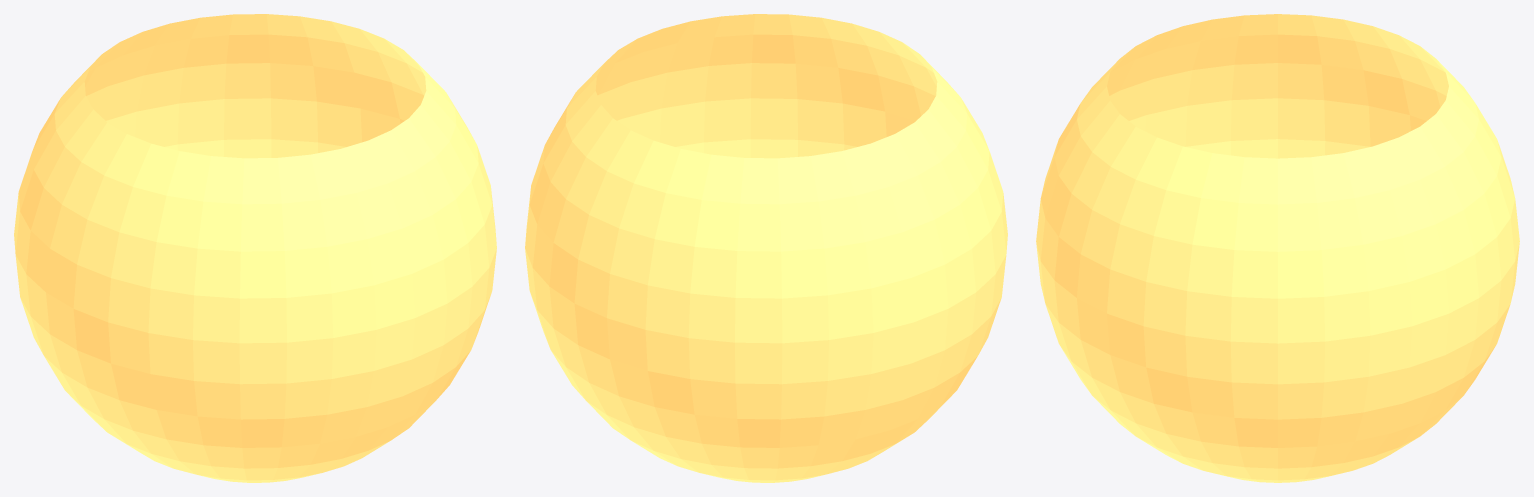
The model's file is planet_deathstar_hit.glb.
3 views of the same model, side by side, from view 1: azimuth 30°, elevation 25°; view 2: azimuth 150°, elevation 25°; view 3: azimuth 270°, elevation 25° (orthographic).
Visible parts, largest first — view 1: Planet_DeathStarHit; view 2: Planet_DeathStarHit; view 3: Planet_DeathStarHit.
Part boxes in pixels (box(x1,y1,x2,y2)): Planet_DeathStarHit: box(14, 14, 496, 482); Planet_DeathStarHit: box(525, 14, 1007, 482); Planet_DeathStarHit: box(1036, 14, 1519, 482).
Size of the model in its own units: 1 by 0.8536 by 1.
